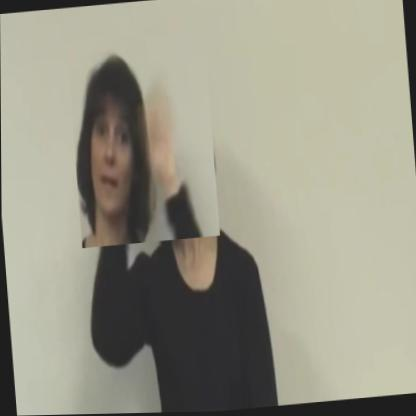Hello: (67, 31, 220, 249)
